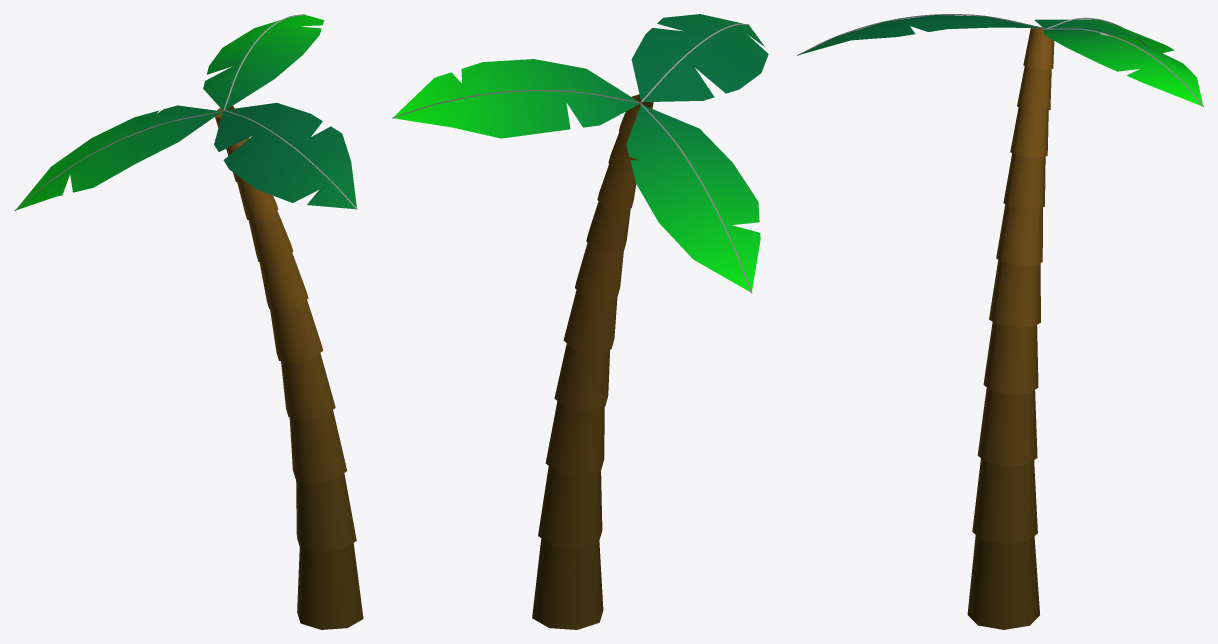
Rendered from PalmTree320.FBX.
3 views of the same model, side by side, from view 1: azimuth 30°, elevation 25°; view 2: azimuth 150°, elevation 25°; view 3: azimuth 270°, elevation 25° (orthographic). The views are drawn at different scales.
Visible parts, largest first — view 1: Cylinder003; view 2: Cylinder003; view 3: Cylinder003.
Boxes of the visible parts, x1,y1,x2,y2 form: Cylinder003: (16,15,363,629); Cylinder003: (394,14,768,629); Cylinder003: (799,15,1202,629).
Bounding box in the file's own units: 459 × 755 × 489.
Materials: 10 (9 with a texture image).
